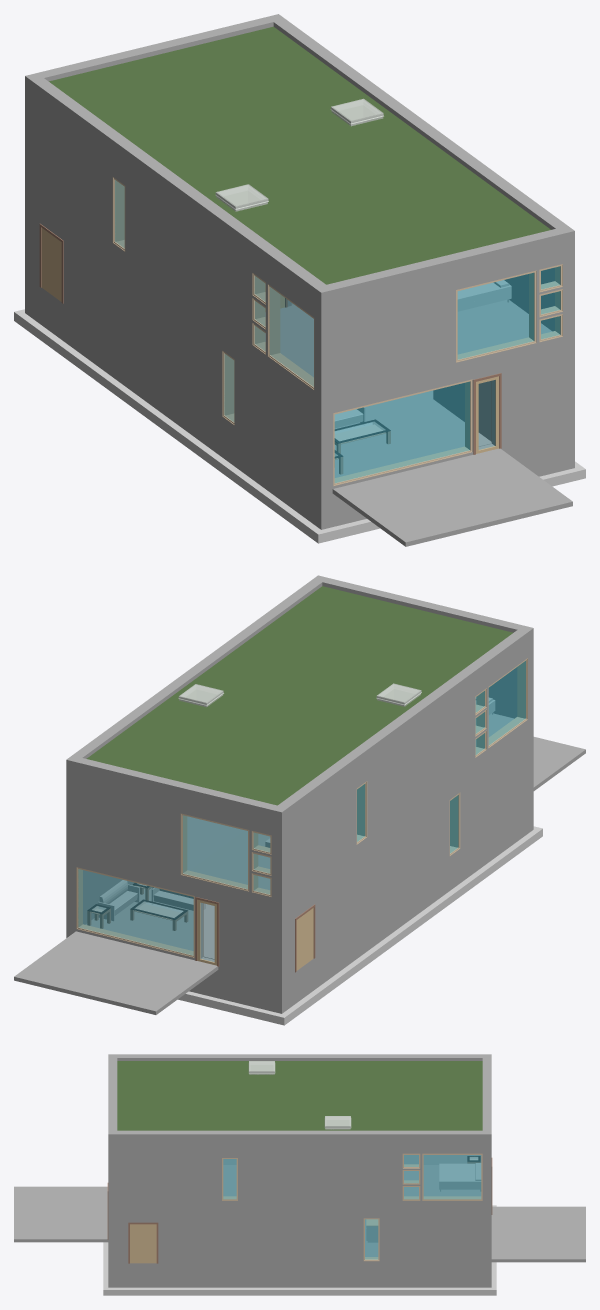
File: duplex.glb
3 renders of one model, top to bottom at view 1: azimuth 30°, elevation 25°; view 2: azimuth 150°, elevation 25°; view 3: azimuth 270°, elevation 25°, orthographic. The views are drawn at different scales.
Parts seen in each view (by area): view 1: 3ThA22djr8AQQ9eQMA5s7I_0, 2O2Fr$t4X7Zf8NOew3FNhv_0, 2O2Fr$t4X7Zf8NOew3FLPP_0, 2O2Fr$t4X7Zf8NOew3FLOH_0, 1CZILmCaHETO8tf3SgGEXu_0, 2O2Fr$t4X7Zf8NOew3FNr2_0, 2O2Fr$t4X7Zf8NOew3FKE5_0, 1hOSvn6df7F8_7GcBWlRBU_0, 0jf0rYHfX3RAB3bSIRjmr1_0, 2OBrcmyk58NupXoVOHUtxr_0, 0jf0rYHfX3RAB3bSIRjmoa_0, 1hOSvn6df7F8_7GcBWlS_W_0 (+21 smaller); view 2: 3ThA22djr8AQQ9eQMA5s7I_0, 2O2Fr$t4X7Zf8NOew3FNhv_0, 2O2Fr$t4X7Zf8NOew3FLPP_0, 2O2Fr$t4X7Zf8NOew3FLQD_0, 1CZILmCaHETO8tf3SgGEWh_0, 2O2Fr$t4X7Zf8NOew3FNtn_0, 2O2Fr$t4X7Zf8NOew3FKE5_0, 1hOSvn6df7F8_7GcBWlR72_0, 0jf0rYHfX3RAB3bSIRjmr1_0, 0jf0rYHfX3RAB3bSIRjmmy_0, 1hOSvn6df7F8_7GcBWlSXO_0, 0kF45Qs8L9PAM9kmb1lT5t_0 (+22 smaller); view 3: 3ThA22djr8AQQ9eQMA5s7I_0, 2O2Fr$t4X7Zf8NOew3FNqI_0, 2O2Fr$t4X7Zf8NOew3FLR9_0, 2O2Fr$t4X7Zf8NOew3FK9N_0, 0jf0rYHfX3RAB3bSIRjmpw_0, 1CZILmCaHETO8tf3SgGEWh_0, 1CZILmCaHETO8tf3SgGEXu_0, 0kF45Qs8L9PAM9kmb1lT5d_0, 0jf0rYHfX3RAB3bSIRjmr1_0, 1l0GAJtRTFv8$zmKJOH4pU_0, 2OBrcmyk58NupXoVOHUtDX_0, 2OBrcmyk58NupXoVOHUtI8_0 (+11 smaller).
Part boxes in pixels (box(x1,y1,x2,y2)): 3ThA22djr8AQQ9eQMA5s7I_0: box(49, 26, 550, 284); 2O2Fr$t4X7Zf8NOew3FNhv_0: box(32, 187, 314, 486); 2O2Fr$t4X7Zf8NOew3FLPP_0: box(25, 94, 321, 398); 2O2Fr$t4X7Zf8NOew3FLOH_0: box(321, 249, 574, 398); 1CZILmCaHETO8tf3SgGEXu_0: box(332, 448, 572, 546); 2O2Fr$t4X7Zf8NOew3FNr2_0: box(314, 340, 562, 491); 2O2Fr$t4X7Zf8NOew3FKE5_0: box(32, 281, 314, 524); 1hOSvn6df7F8_7GcBWlRBU_0: box(335, 382, 469, 482); 0jf0rYHfX3RAB3bSIRjmr1_0: box(32, 78, 325, 305); 2OBrcmyk58NupXoVOHUtxr_0: box(334, 390, 491, 477); 0jf0rYHfX3RAB3bSIRjmoa_0: box(314, 229, 562, 310); 1hOSvn6df7F8_7GcBWlS_W_0: box(458, 273, 533, 359); 3ThA22djr8AQQ9eQMA5s7I_0: box(86, 586, 513, 805); 2O2Fr$t4X7Zf8NOew3FNhv_0: box(287, 722, 527, 977); 2O2Fr$t4X7Zf8NOew3FLPP_0: box(282, 644, 533, 901); 2O2Fr$t4X7Zf8NOew3FLQD_0: box(66, 775, 281, 902); 1CZILmCaHETO8tf3SgGEWh_0: box(14, 931, 218, 1014); 2O2Fr$t4X7Zf8NOew3FNtn_0: box(66, 850, 287, 981); 2O2Fr$t4X7Zf8NOew3FKE5_0: box(287, 802, 527, 1009); 1hOSvn6df7F8_7GcBWlR72_0: box(78, 869, 193, 955); 0jf0rYHfX3RAB3bSIRjmr1_0: box(278, 630, 527, 823); 0jf0rYHfX3RAB3bSIRjmmy_0: box(66, 755, 287, 827); 1hOSvn6df7F8_7GcBWlSXO_0: box(183, 815, 247, 888); 0kF45Qs8L9PAM9kmb1lT5t_0: box(262, 836, 530, 1025); 3ThA22djr8AQQ9eQMA5s7I_0: box(117, 1061, 482, 1130); 2O2Fr$t4X7Zf8NOew3FNqI_0: box(108, 1202, 482, 1263); 2O2Fr$t4X7Zf8NOew3FLR9_0: box(108, 1146, 491, 1202); 2O2Fr$t4X7Zf8NOew3FK9N_0: box(108, 1263, 482, 1287); 0jf0rYHfX3RAB3bSIRjmpw_0: box(108, 1130, 482, 1146); 1CZILmCaHETO8tf3SgGEWh_0: box(491, 1206, 585, 1262); 1CZILmCaHETO8tf3SgGEXu_0: box(14, 1186, 108, 1242); 0kF45Qs8L9PAM9kmb1lT5d_0: box(103, 1281, 496, 1295); 0jf0rYHfX3RAB3bSIRjmr1_0: box(117, 1054, 482, 1060); 1l0GAJtRTFv8$zmKJOH4pU_0: box(424, 1155, 480, 1198); 2OBrcmyk58NupXoVOHUtDX_0: box(404, 1165, 481, 1196); 2OBrcmyk58NupXoVOHUtI8_0: box(439, 1163, 481, 1191).
Size of the model in its own units: 9.28 by 8.18 by 26.57.
